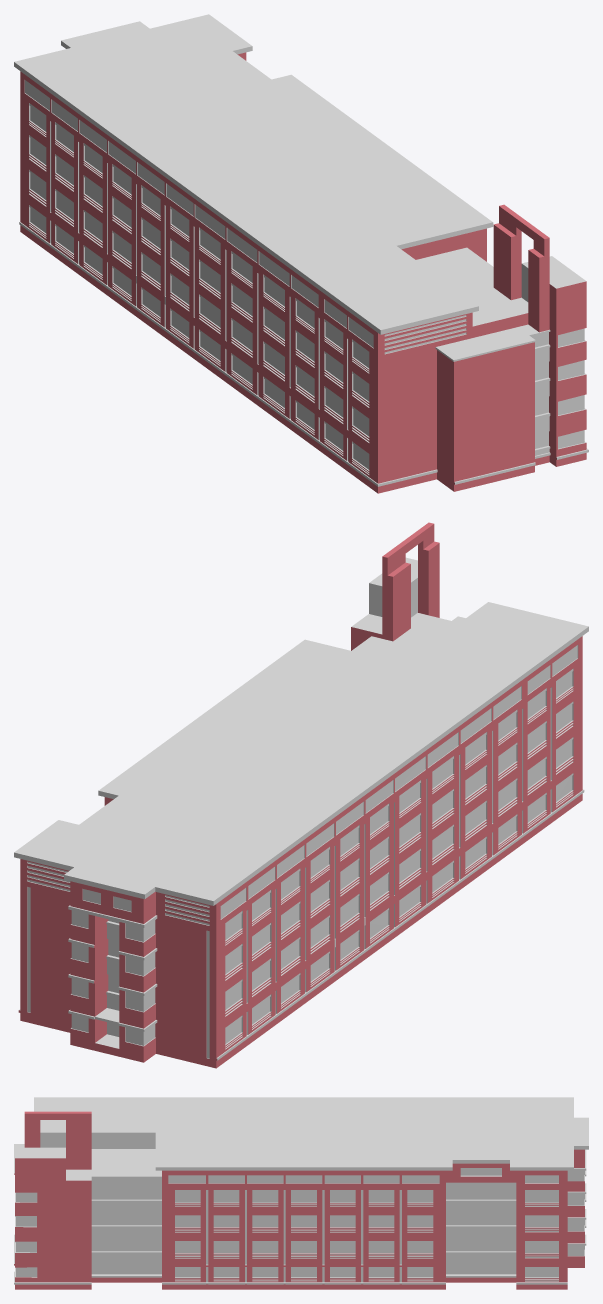
The model's file is 单栋教学楼.fbx.
3 renders of one model, top to bottom at view 1: azimuth 30°, elevation 25°; view 2: azimuth 150°, elevation 25°; view 3: azimuth 270°, elevation 25°, orthographic. The views are drawn at different scales.
Parts seen in each view (by area): view 1: Cube; view 2: Cube; view 3: Cube.
Part boxes in pixels (x1,y1,x2,y2): Cube: [14, 14, 588, 493]; Cube: [14, 522, 588, 1068]; Cube: [14, 1097, 588, 1289].
Bounding box in the file's own units: 14.37 × 15.79 × 49.81.
